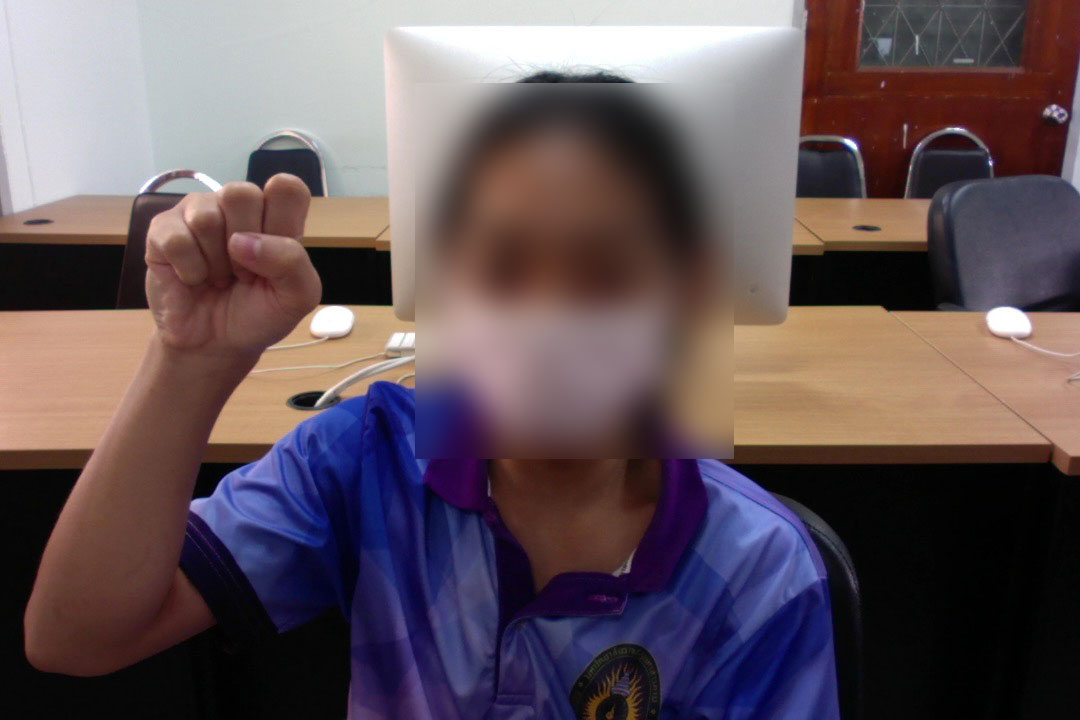sor: (139, 165, 327, 394)
